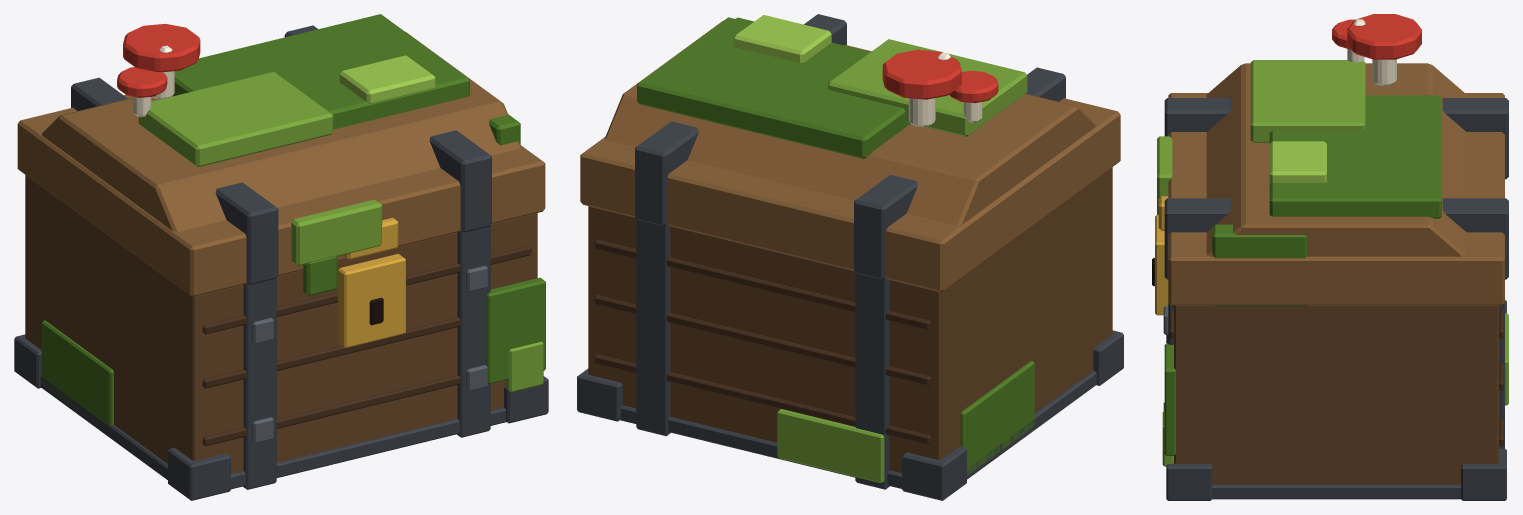
The model's file is myw_crate_zone2.glb.
3 views of the same model, side by side, from view 1: azimuth 30°, elevation 25°; view 2: azimuth 150°, elevation 25°; view 3: azimuth 270°, elevation 25° (orthographic). The views are drawn at different scales.
Visible parts, largest first — view 1: Body, Lid; view 2: Body, Lid; view 3: Lid, Body.
Part boxes in pixels (left/top/right/bottom): Body: left=14, top=175, right=548, bottom=500; Lid: left=17, top=14, right=545, bottom=296; Body: left=577, top=167, right=1123, bottom=500; Lid: left=580, top=14, right=1120, bottom=291; Lid: left=1157, top=14, right=1508, bottom=306; Body: left=1152, top=215, right=1508, bottom=500.
Size of the model in its own units: 2.08 by 2.03 by 1.86.
